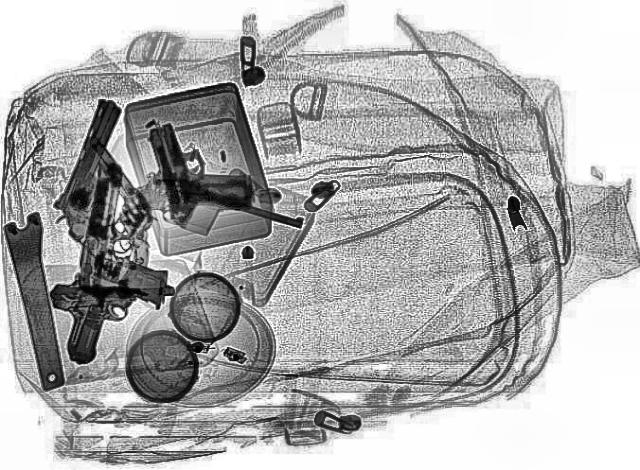Gun: (32, 97, 198, 275), (110, 169, 304, 277), (25, 136, 175, 255), (69, 175, 183, 309), (143, 114, 260, 223), (42, 282, 176, 366)
